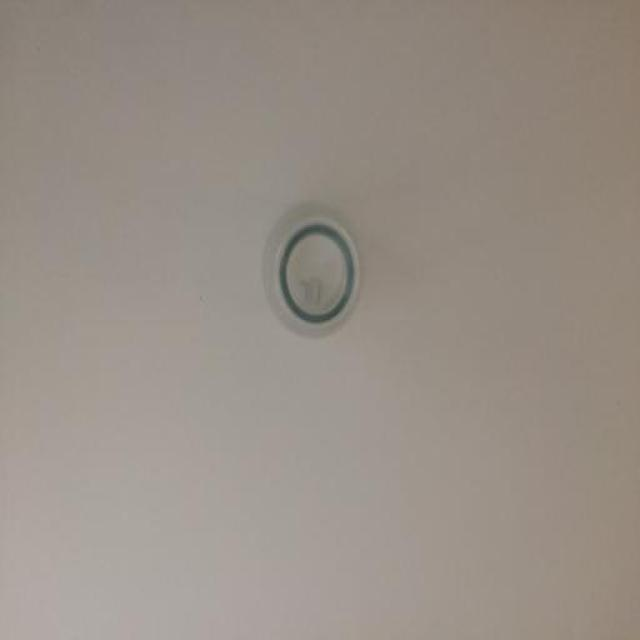glass: (259, 202, 361, 338)
